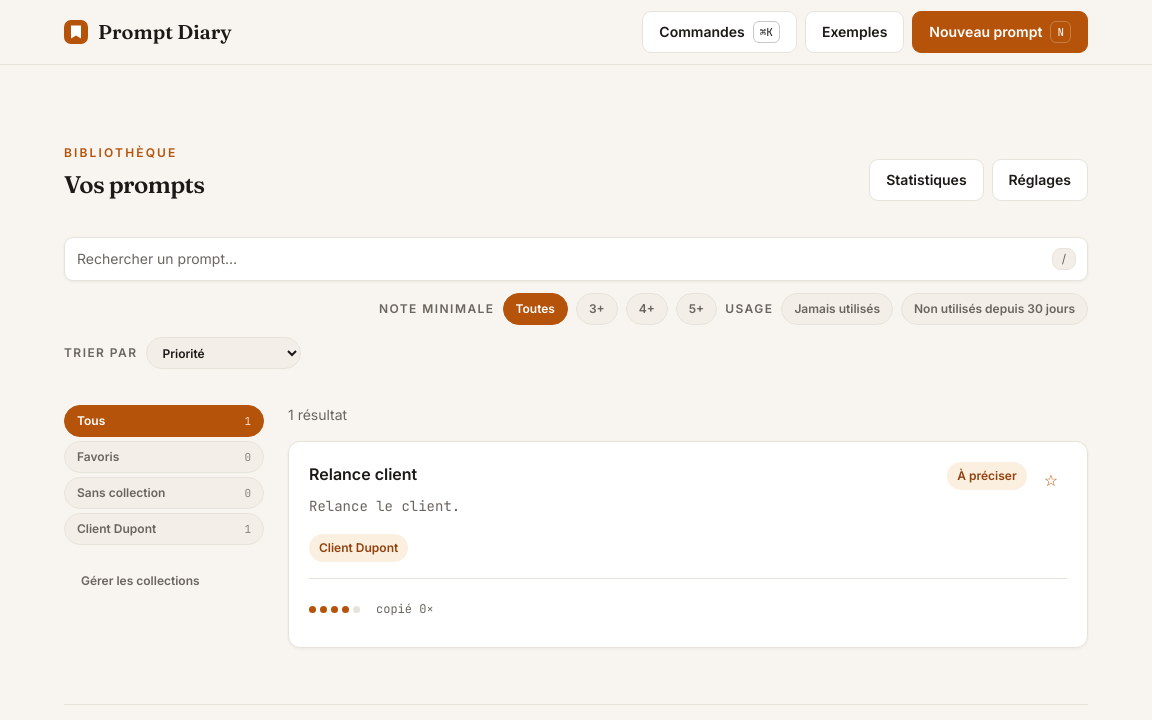
it: Prompt Diary prompt library › renames a collection for every prompt and detaches it on delete
Expected: the heading "Relance client" is shown, [309, 464, 417, 484]
Click the button "Gérer les collections". click: [164, 581]
box: [64, 561, 264, 601]
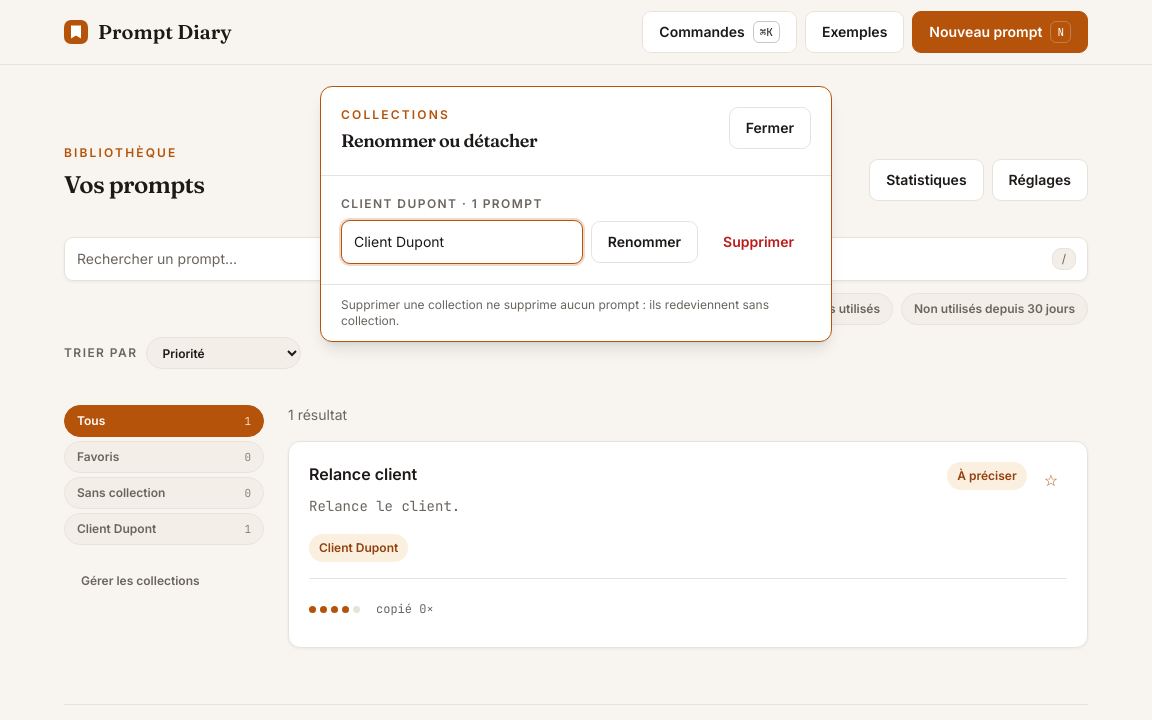
Replace the text in the field labelled "Client Dupont · 1 prompt" with "Client Durand". click: [462, 242]
box: [341, 220, 583, 264]
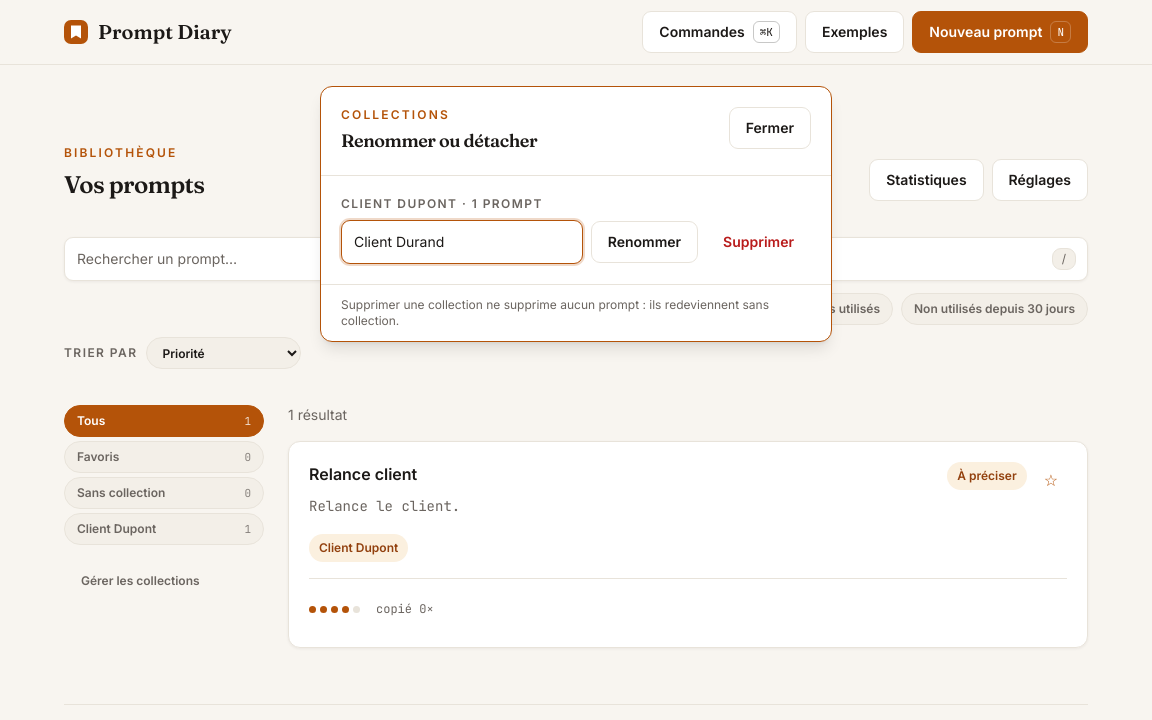
Click the button "Renommer". click: [644, 242]
box: [591, 221, 698, 263]
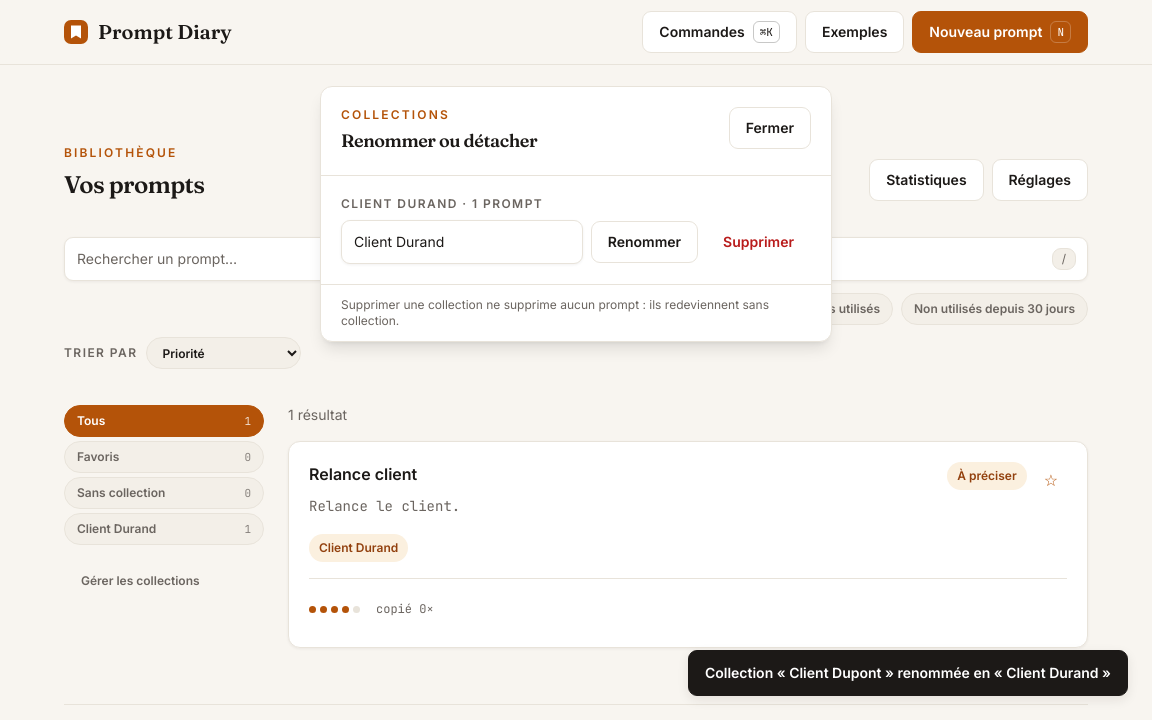
Expected: the text "Collection « Client Dupont » renommée en « Client Durand »" is shown, [688, 650, 1128, 696]
Expected: the button "Client Durand 1" is shown, [64, 513, 264, 545]
Click the button "Supprimer". click: [759, 242]
box: [706, 221, 811, 263]
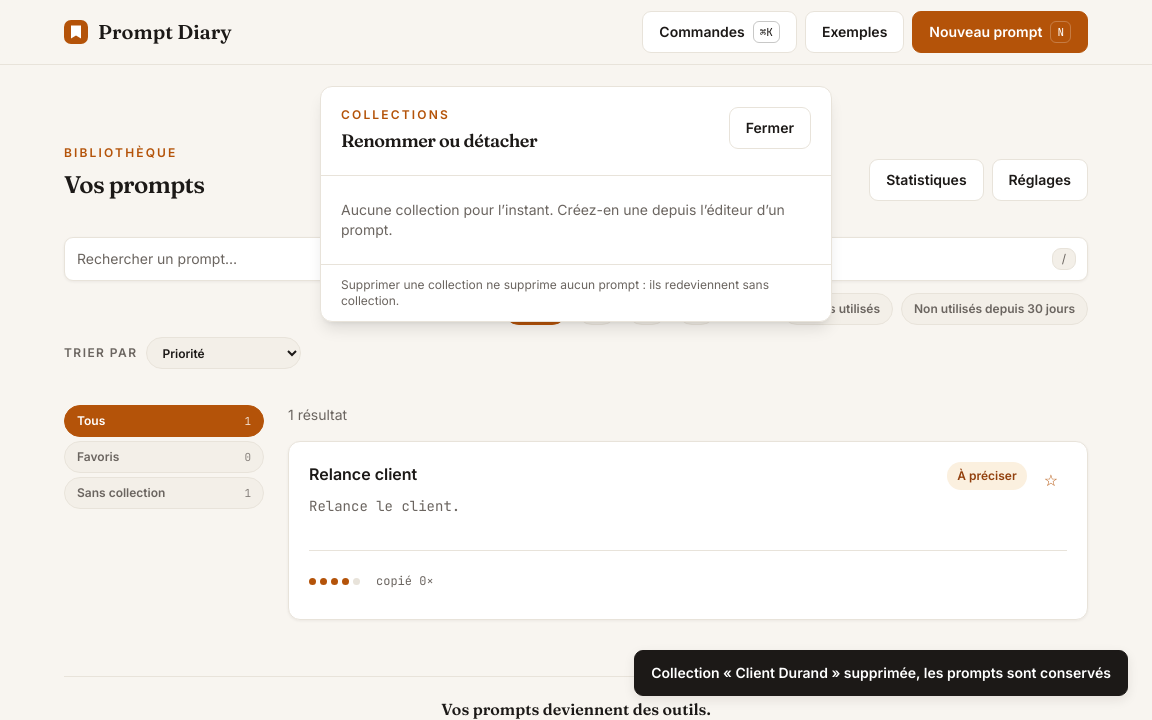
Expected: the heading "Relance client" is shown, [309, 464, 417, 484]
Expected: the text "Collection « Client Durand » supprimée, les prompts sont conservés" is shown, [634, 650, 1128, 696]
